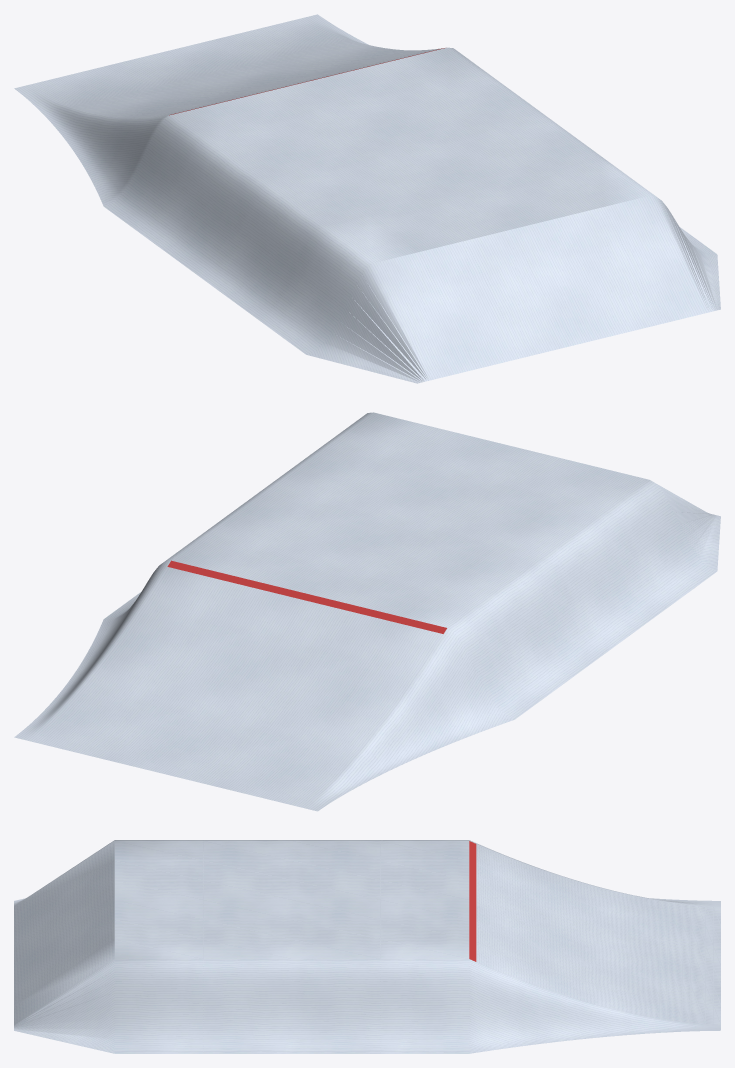
The model's file is SM_TableTop.glb.
3 views of the same model, one above another, from view 1: azimuth 30°, elevation 25°; view 2: azimuth 150°, elevation 25°; view 3: azimuth 270°, elevation 25° (orthographic). The views are drawn at different scales.
Visible parts, largest first — view 1: SM_TableTop; view 2: SM_TableTop, Lip; view 3: SM_TableTop, Lip.
Boxes of the visible parts, <box> form: SM_TableTop: <box>14,14,720,383</box>; SM_TableTop: <box>14,412,720,811</box>; Lip: <box>167,560,446,633</box>; SM_TableTop: <box>14,840,720,1053</box>; Lip: <box>469,841,476,961</box>.
Bounding box in the file's own units: 7.45 × 1.3 × 12.65.
Materials: 2 (1 with a texture image).
